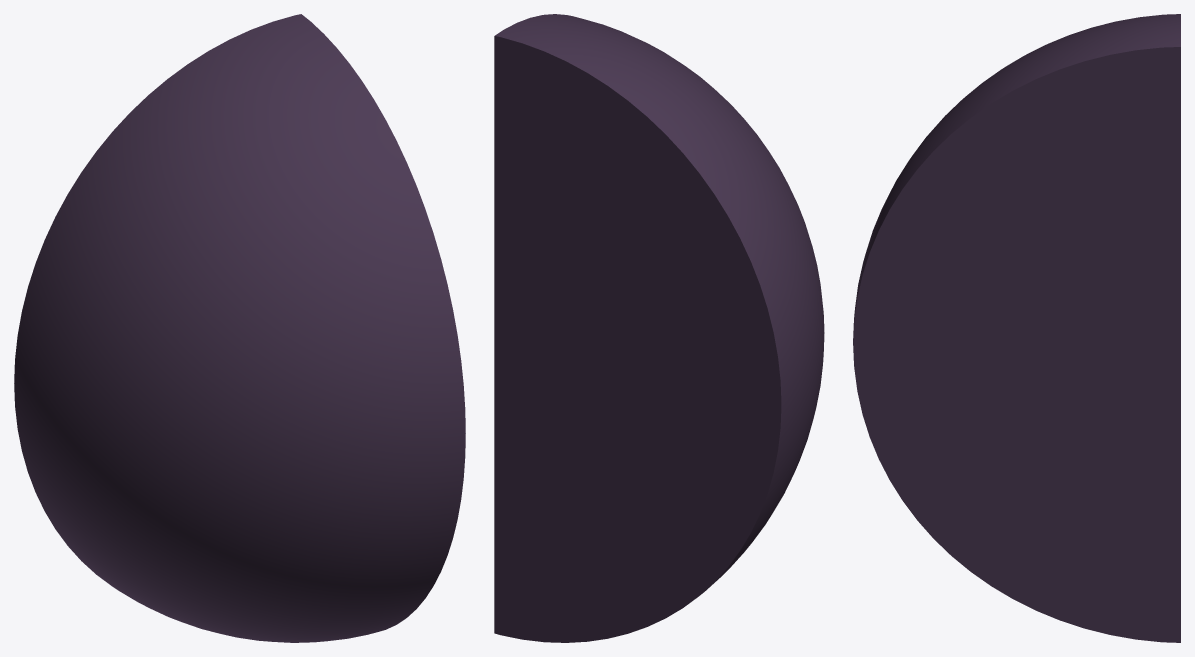
Rendered from newshu-129-f3.glb.
3 renders of one model, left to right at view 1: azimuth 30°, elevation 25°; view 2: azimuth 150°, elevation 25°; view 3: azimuth 270°, elevation 25°, orthographic.
Parts seen in each view (by area): view 1: newshu-129-f3; view 2: newshu-129-f3; view 3: newshu-129-f3.
Boxes of the visible parts, x1,y1,x2,y2 form: newshu-129-f3: [14, 14, 465, 642]; newshu-129-f3: [494, 14, 824, 642]; newshu-129-f3: [853, 14, 1180, 642].
Size of the model in its own units: 1.92 by 3.83 by 1.91.
